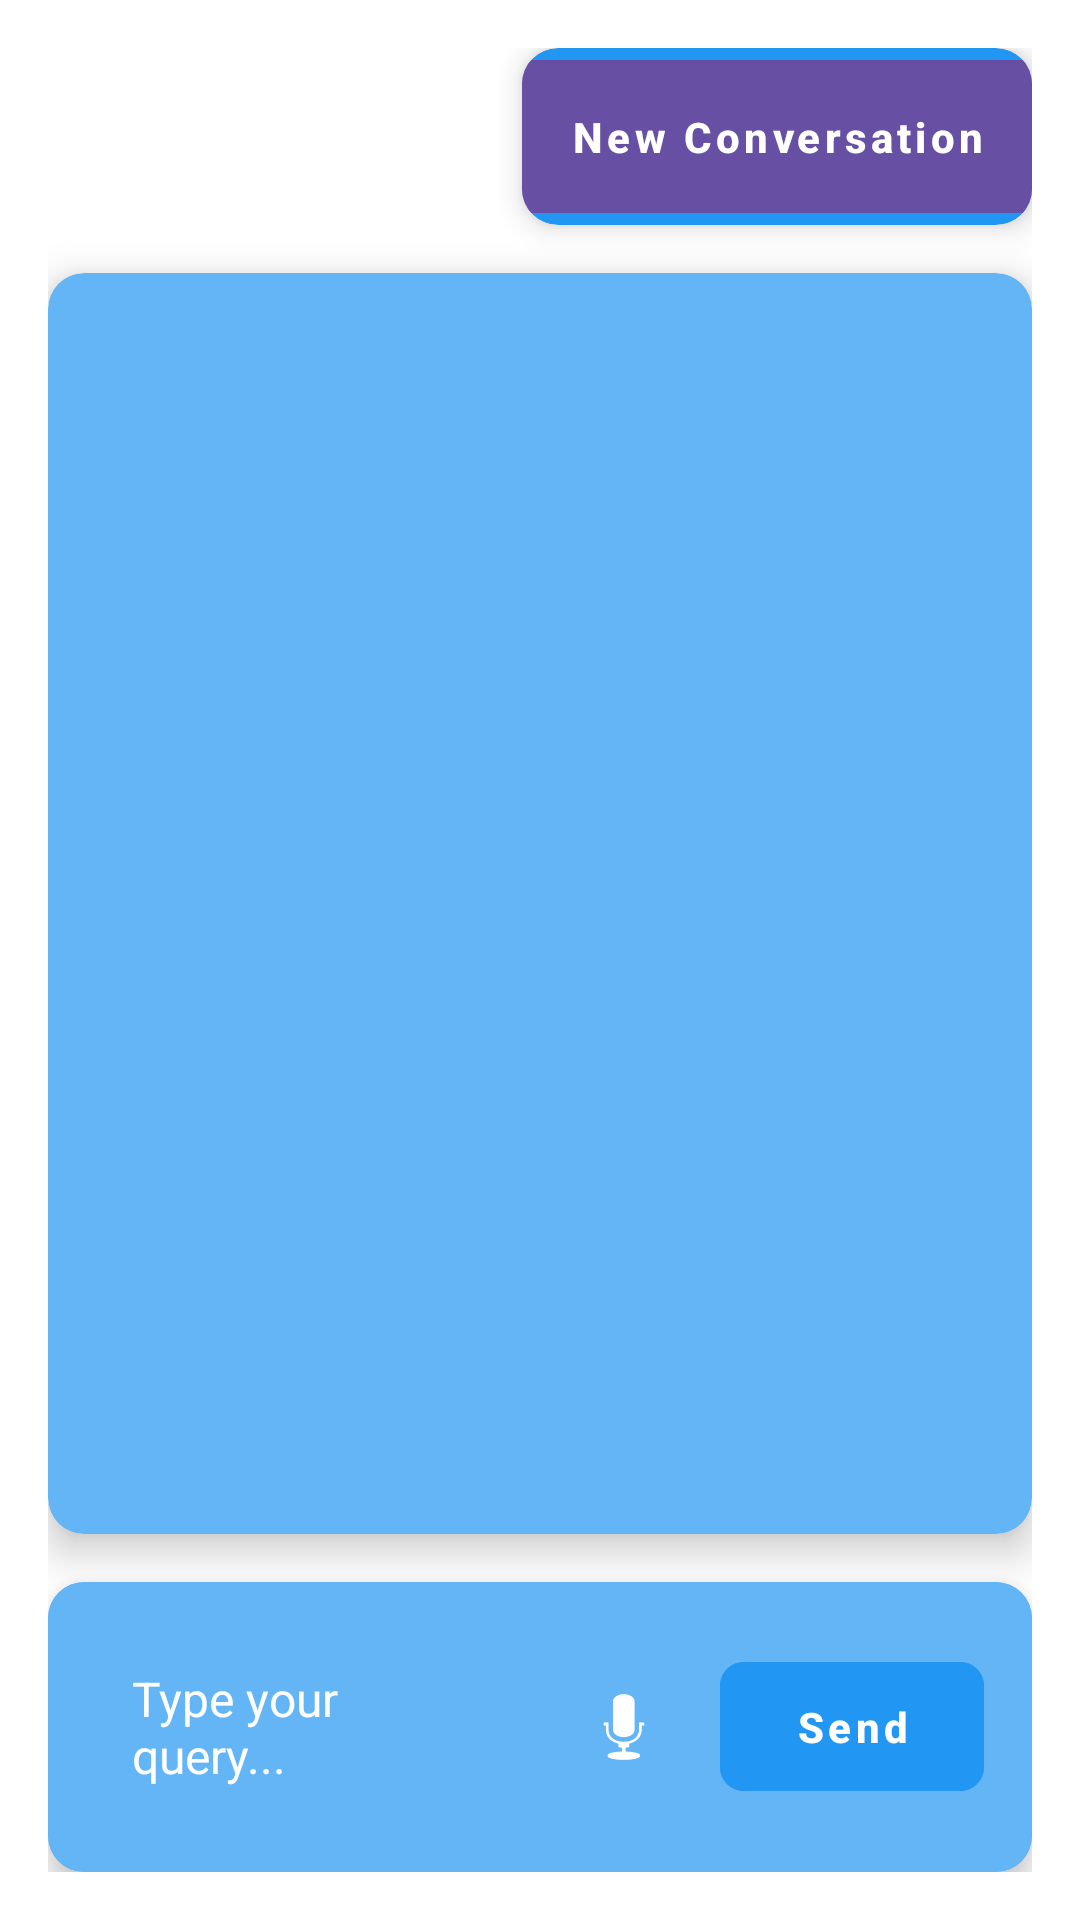

Point at icon controls on the screen. Image size 1080*1920, points as [x,y].
Voice Input: [624,1727]
